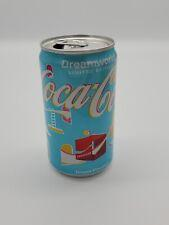metal: (40, 35, 115, 176)
